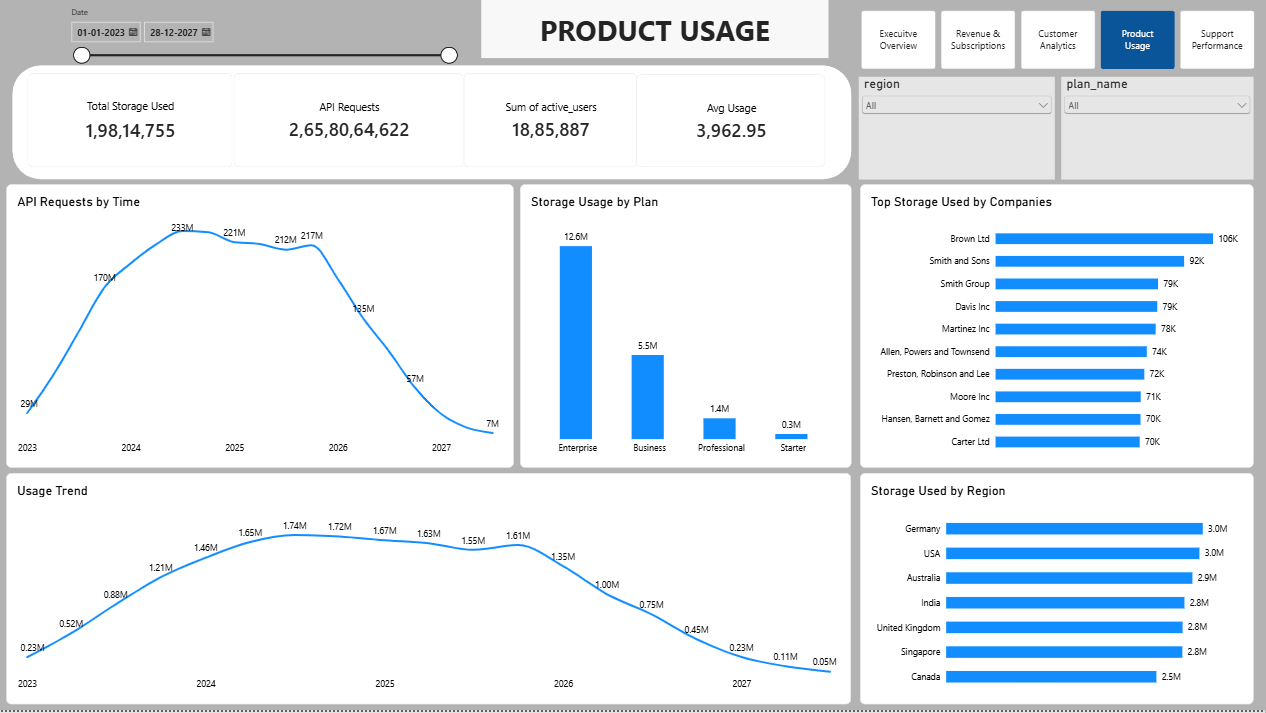

Layout of this report page (visuals, bound fields, positions):
{"tool":"powerbi","page":{"name":"Product Usage","canvas":[1920,1080],"ordinal":3},"visuals":[{"type":"shape","box":[19,102.5,1273.3,172.7],"z":0,"group":"g1"},{"type":"textbox","box":[730.6,0,527.5,91.1],"z":1000},{"type":"pageNavigator","box":[1307.5,19,597.7,89.2],"z":2000},{"type":"cardVisual","fields":{"Data":["Sum(flowstack_analytics usage_logs.storage_used_gb)"]},"box":[42.5,113.3,311.8,143.4],"z":3000,"group":"g1"},{"type":"lineChart","title":"Usage Trend","fields":{"Y":["Sum(flowstack_analytics usage_logs.storage_used_gb)"],"Category":["flowstack_analytics usage_logs.usage_month.Variation.Date Hierarchy.Year","flowstack_analytics usage_logs.usage_month.Variation.Date Hierarchy.Quarter"]},"box":[9.5,721.1,1282.8,351.1],"z":4000},{"type":"lineChart","title":"API Requests by Time","fields":{"Y":["Sum(flowstack_analytics usage_logs.api_requests)"],"Category":["flowstack_analytics usage_logs.usage_month.Variation.Date Hierarchy.Year","flowstack_analytics usage_logs.usage_month.Variation.Date Hierarchy.Quarter"]},"box":[9.5,282.7,770.4,430.8],"z":5000},{"type":"columnChart","title":"Storage Usage by Plan","fields":{"Y":["Sum(flowstack_analytics usage_logs.storage_used_gb)"],"Category":["flowstack_analytics plans.plan_name"]},"box":[789.4,282.7,502.9,430.8],"z":6000},{"type":"barChart","title":"Storage Used by Region","fields":{"Category":["flowstack_analytics customers.region"],"Y":["Sum(flowstack_analytics usage_logs.storage_used_gb)"]},"box":[1305.6,721.1,597.7,351.1],"z":7000},{"type":"barChart","title":"Top Storage Used by Companies","fields":{"Y":["Sum(flowstack_analytics usage_logs.storage_used_gb)"],"Category":["flowstack_analytics customers.company_name"]},"box":[1305.6,282.7,597.7,430.8],"z":8000},{"type":"slicer","fields":{"Values":["flowstack_analytics customers.region"]},"box":[1303.7,119.5,297.9,155.6],"z":9000},{"type":"slicer","fields":{"Values":["flowstack_analytics plans.plan_name"]},"box":[1611.1,119.5,292.2,155.6],"z":10000},{"type":"slicer","fields":{"Values":["flowstack_analytics invoices.invoice_date"]},"box":[101.3,12.7,597.2,92.3],"z":11000},{"type":"cardVisual","fields":{"Data":["Sum(flowstack_analytics usage_logs.api_requests)"]},"box":[354.3,113.3,349.1,143.4],"z":12000,"group":"g1"},{"type":"cardVisual","fields":{"Data":["Sum(flowstack_analytics usage_logs.active_users)"]},"box":[703.4,113.3,263.2,143.4],"z":13000,"group":"g1"},{"type":"cardVisual","fields":{"Data":["flowstack_analytics usage_logs.Avg Usage"]},"box":[966.6,115,287.5,141.7],"z":14000,"group":"g1"},{"type":"group","id":"g1","title":"Group 1","box":[19,102.5,1273.3,172.7],"z":14001}]}

Visuals, with their boxes in screenshot pixels (x1, y1, x2, y2), scaled from the page's 1920x1080 canvas onto the 1266x713 screenshot:
shape: x1=13 y1=68 x2=852 y2=182
textbox: x1=482 y1=0 x2=830 y2=60
pageNavigator: x1=862 y1=13 x2=1256 y2=71
cardVisual - Sum(flowstack_analytics usage_logs.storage_used_gb): x1=28 y1=75 x2=234 y2=169
"Usage Trend" lineChart: x1=6 y1=476 x2=852 y2=708
"API Requests by Time" lineChart: x1=6 y1=187 x2=514 y2=471
"Storage Usage by Plan" columnChart: x1=521 y1=187 x2=852 y2=471
"Storage Used by Region" barChart: x1=861 y1=476 x2=1255 y2=708
"Top Storage Used by Companies" barChart: x1=861 y1=187 x2=1255 y2=471
slicer - flowstack_analytics customers.region: x1=860 y1=79 x2=1056 y2=182
slicer - flowstack_analytics plans.plan_name: x1=1062 y1=79 x2=1255 y2=182
slicer - flowstack_analytics invoices.invoice_date: x1=67 y1=8 x2=461 y2=69
cardVisual - Sum(flowstack_analytics usage_logs.api_requests): x1=234 y1=75 x2=464 y2=169
cardVisual - Sum(flowstack_analytics usage_logs.active_users): x1=464 y1=75 x2=637 y2=169
cardVisual - flowstack_analytics usage_logs.Avg Usage: x1=637 y1=76 x2=827 y2=169
"Group 1" group: x1=13 y1=68 x2=852 y2=182
